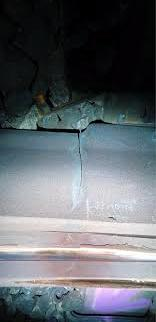error2: (66, 101, 100, 223)
